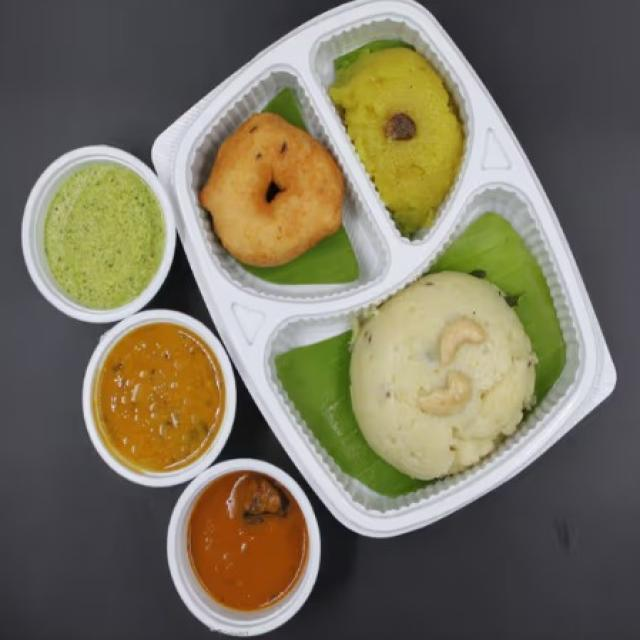GREEN CHUTNEY: (22, 156, 167, 318)
PONGAL: (342, 265, 542, 485)
RED CHUTNEY: (172, 468, 320, 633)
SAMBAR: (92, 316, 231, 479)
SWEET: (326, 41, 462, 238)
VADA: (192, 95, 355, 275)
